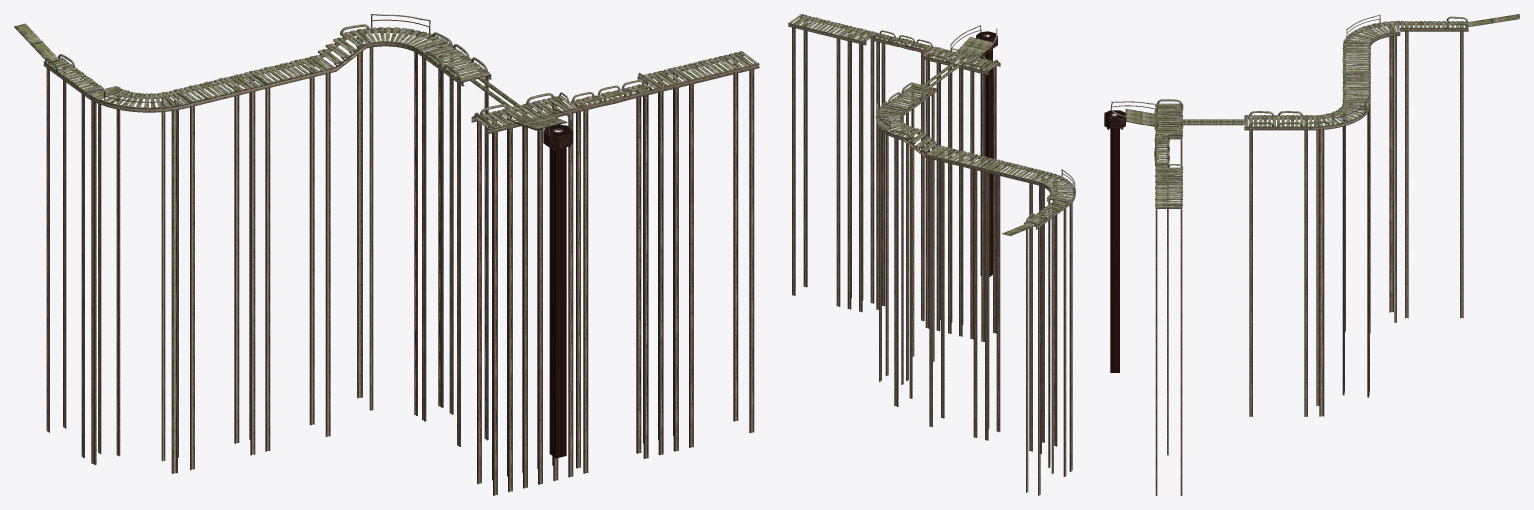
3 renders of one model, left to right at view 1: azimuth 30°, elevation 25°; view 2: azimuth 150°, elevation 25°; view 3: azimuth 270°, elevation 25°, orthographic. The views are drawn at different scales.
Visible parts, largest first — view 1: Ramp_006__1_, ramp_009__1_, ramp_009, Ramp_001__6_, Ramp_001__5_, Ramp_001__7_, Ramp_001__8_, hakkero, ramp_010; view 2: Ramp_006__1_, Ramp_001__7_, Ramp_001__6_, ramp_009, ramp_009__1_, Ramp_001__8_, Ramp_001__5_, hakkero, ramp_010; view 3: ramp_009, Ramp_006__1_, ramp_009__1_, Ramp_001__5_, Ramp_001__8_, hakkero, Ramp_001__6_, Ramp_001__7_.
Part boxes in pixels (x1,y1,x2,y2): Ramp_006__1_: [471, 51, 759, 495]; ramp_009__1_: [86, 86, 185, 473]; ramp_009: [350, 27, 447, 415]; Ramp_001__6_: [244, 55, 336, 451]; Ramp_001__5_: [419, 43, 491, 446]; Ramp_001__7_: [169, 73, 260, 469]; Ramp_001__8_: [43, 57, 103, 457]; hakkero: [543, 124, 573, 458]; ramp_010: [318, 31, 366, 71]; Ramp_006__1_: [788, 14, 1000, 341]; Ramp_001__7_: [980, 158, 1048, 451]; Ramp_001__6_: [925, 145, 992, 437]; ramp_009: [875, 106, 914, 406]; ramp_009__1_: [1036, 172, 1075, 471]; Ramp_001__8_: [1023, 200, 1068, 495]; Ramp_001__5_: [883, 83, 936, 380]; hakkero: [976, 31, 997, 276]; ramp_010: [903, 128, 938, 157]; ramp_009: [1313, 102, 1370, 416]; Ramp_006__1_: [1154, 103, 1183, 495]; ramp_009__1_: [1343, 20, 1400, 333]; Ramp_001__5_: [1244, 115, 1312, 416]; Ramp_001__8_: [1400, 21, 1468, 318]; hakkero: [1104, 110, 1125, 372]; Ramp_001__6_: [1342, 74, 1370, 391]; Ramp_001__7_: [1342, 45, 1370, 74].
Bounding box in the file's own units: 3441 × 2547 × 3019.
